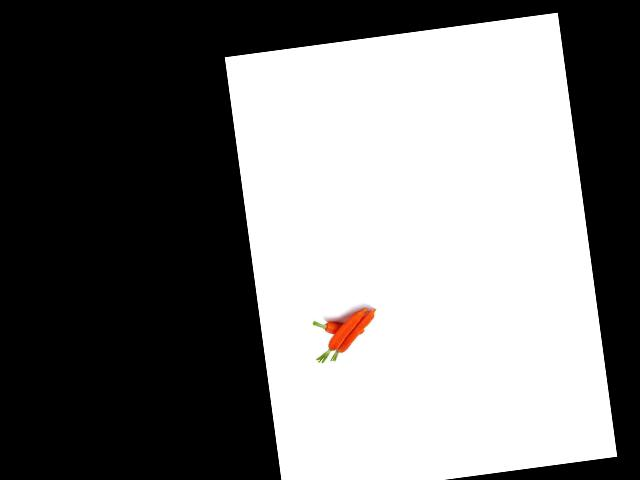carrot: (315, 315, 370, 342)
